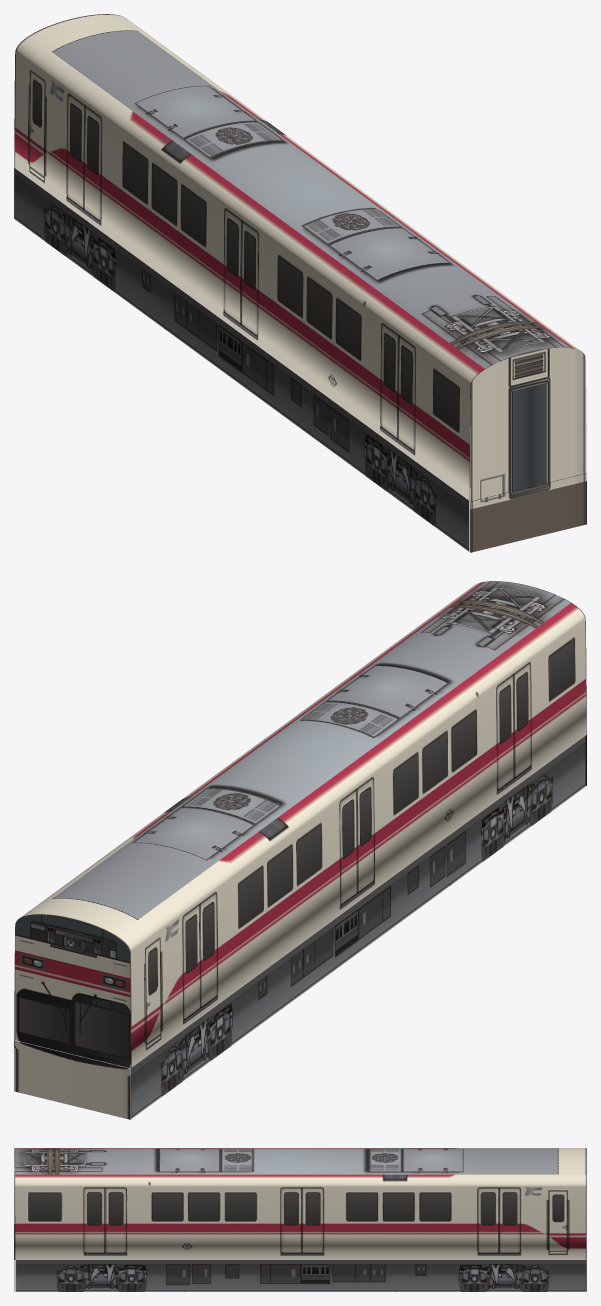
File: car3.glb
3 views of the same model, one above another, from view 1: azimuth 30°, elevation 25°; view 2: azimuth 150°, elevation 25°; view 3: azimuth 270°, elevation 25° (orthographic). The views are drawn at different scales.
Visible parts, largest first — view 1: kobedentetsu-2000-car3; view 2: kobedentetsu-2000-car3; view 3: kobedentetsu-2000-car3.
Part boxes in pixels (bbox=[...]): kobedentetsu-2000-car3: bbox=[14, 14, 586, 552]; kobedentetsu-2000-car3: bbox=[14, 581, 586, 1119]; kobedentetsu-2000-car3: bbox=[14, 1148, 586, 1291].
Bounding box in the file's own units: 2.7 × 4.12 × 18.32.
9 materials, 8 textured.
